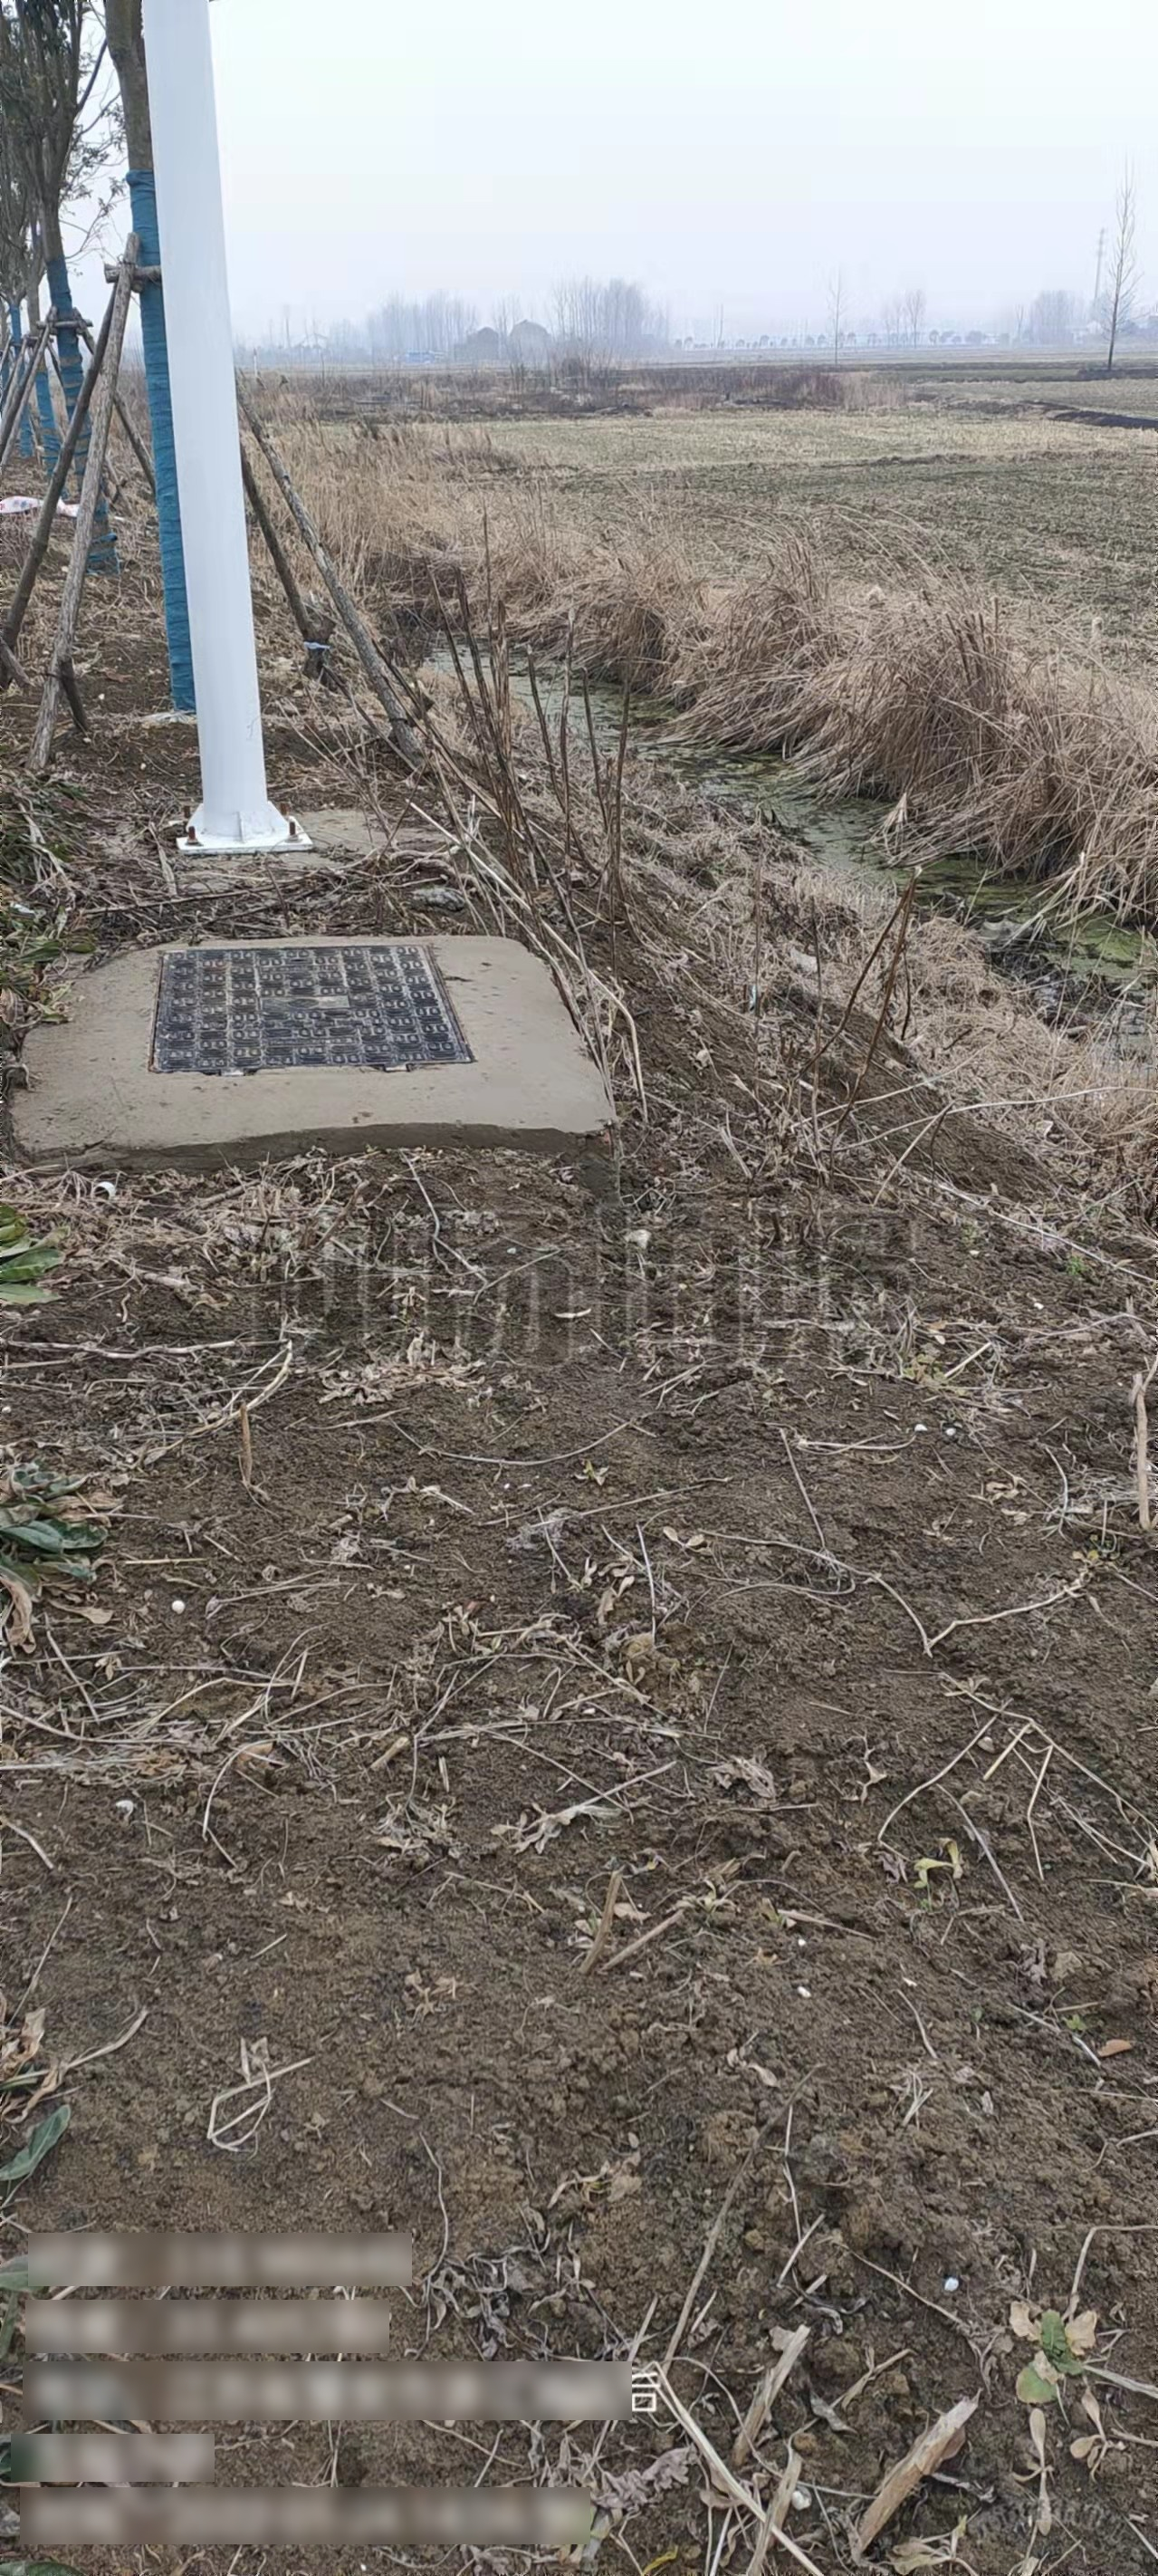good: (138, 946, 483, 1081)
